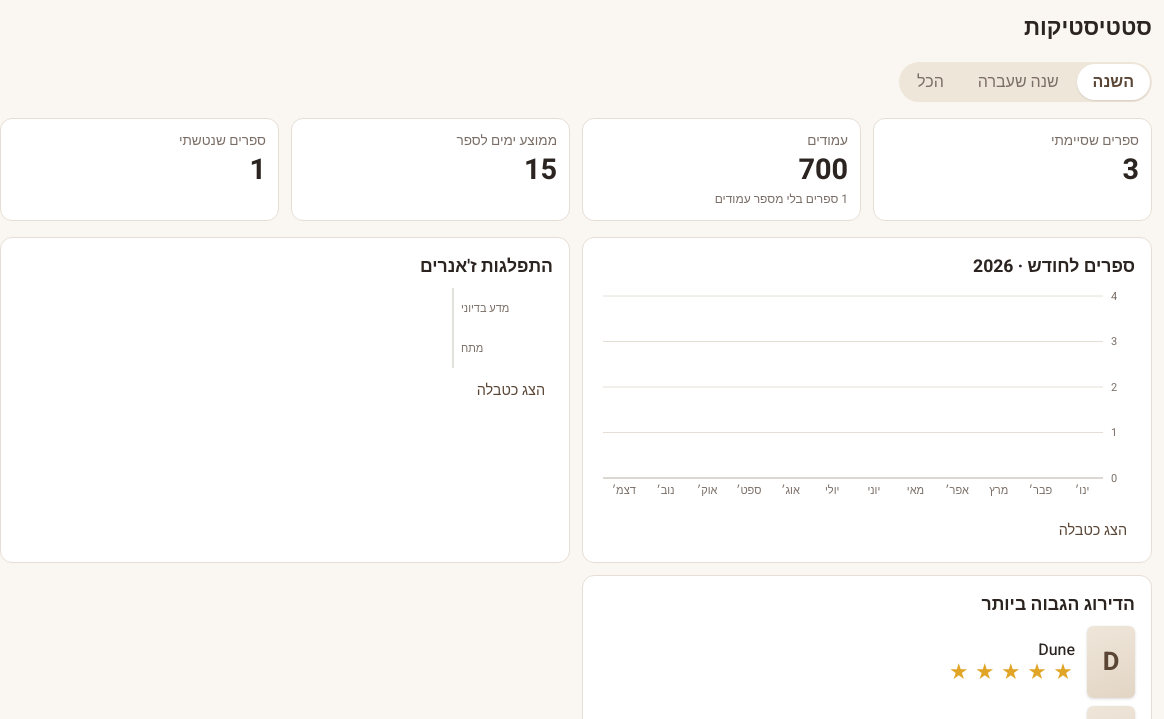
Scenario: Stats › switches to last year and to all
Click the button "שנה שעברה": coordinates (1018, 82) [962,64,1075,100]
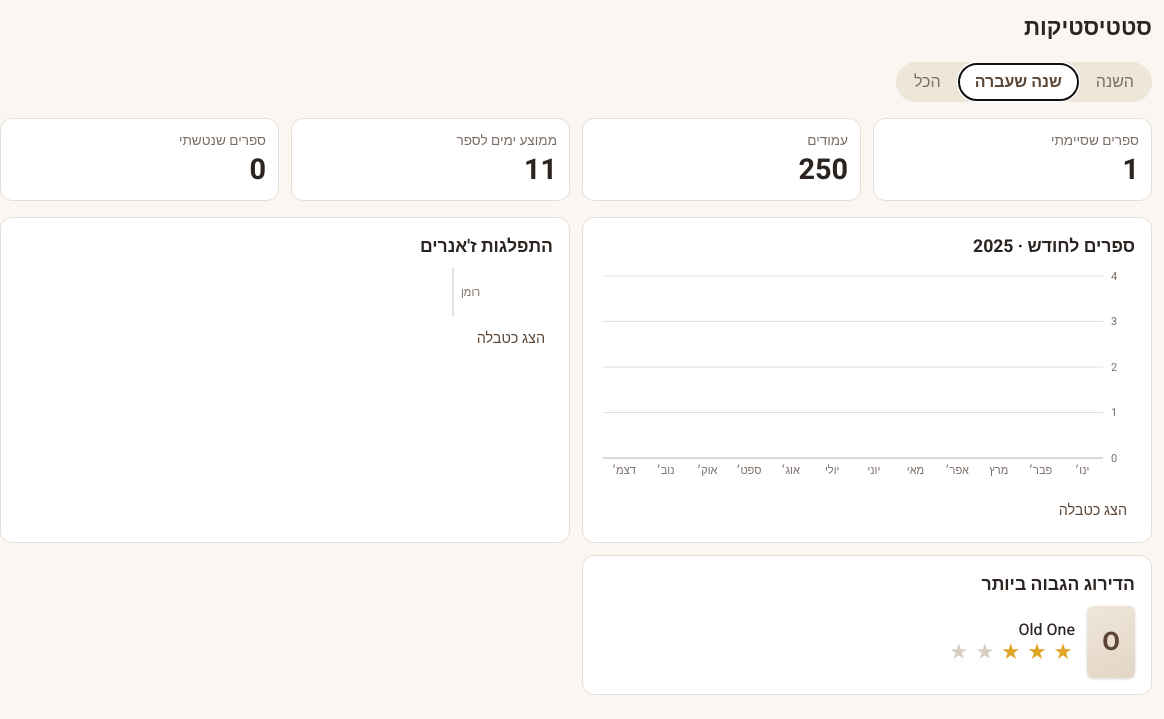
Result: the text "1" is shown at [1122,149,1139,191]
Result: the text "0" is shown at [250,149,266,191]
Click the button "הכל": coordinates (927, 82) [898,64,957,100]
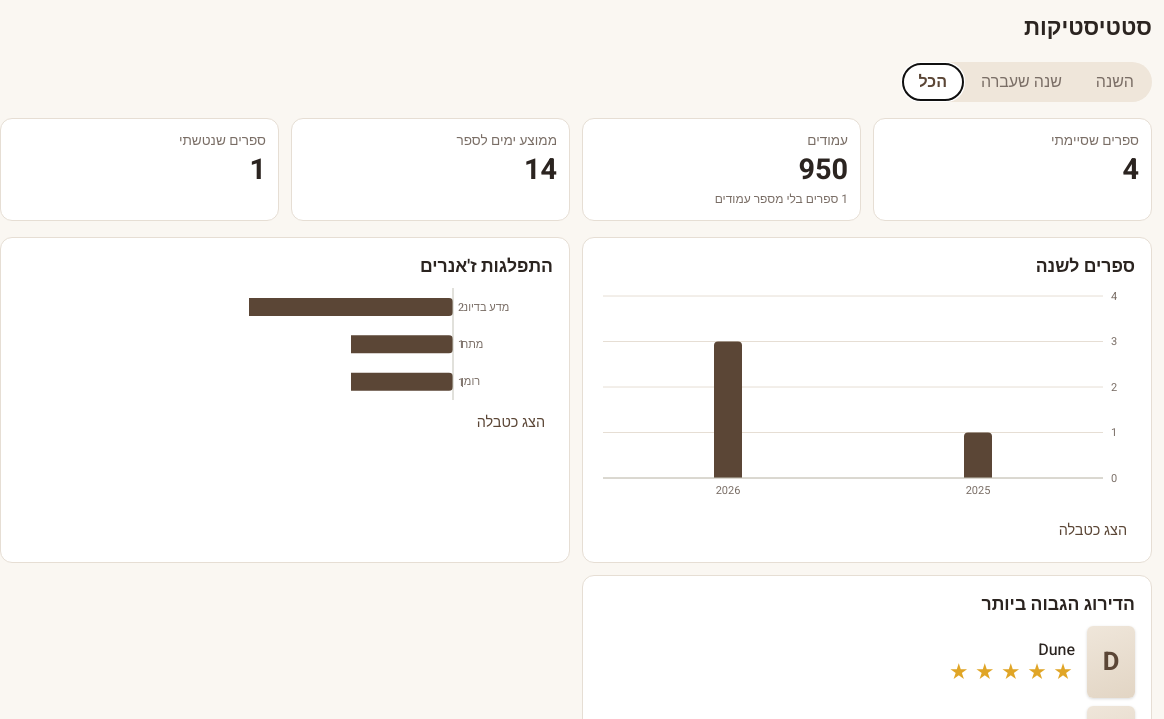
Result: the text "4" is shown at [1122,149,1139,191]
Result: the heading "ספרים לשנה" is shown at [1036,254,1135,278]
